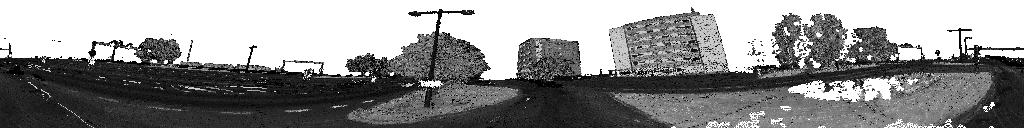gantry_sign_pole: (89, 40, 154, 62), (282, 60, 323, 74), (898, 43, 924, 58), (966, 48, 1023, 50)
light_pole: (409, 9, 474, 85), (947, 29, 971, 64), (780, 25, 793, 74), (246, 46, 256, 70), (964, 37, 972, 52), (187, 41, 192, 63)
traffic_pole: (968, 46, 981, 75)
